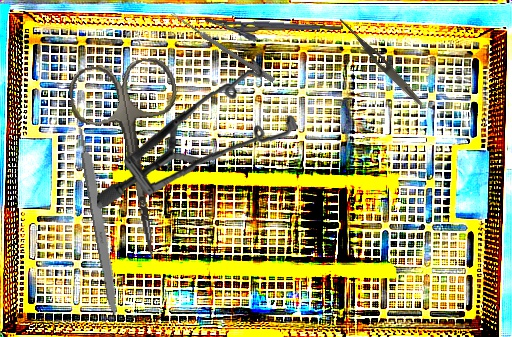Dressing Forceps: (335, 15, 426, 109)
Iris Scissors: (66, 54, 202, 268)
Needle Holder: (203, 16, 321, 47)
Scalpel Handle: (75, 124, 124, 321)
Speculum: (96, 53, 301, 217)
Surgical Spoon: (169, 10, 276, 84), (195, 22, 344, 35)
